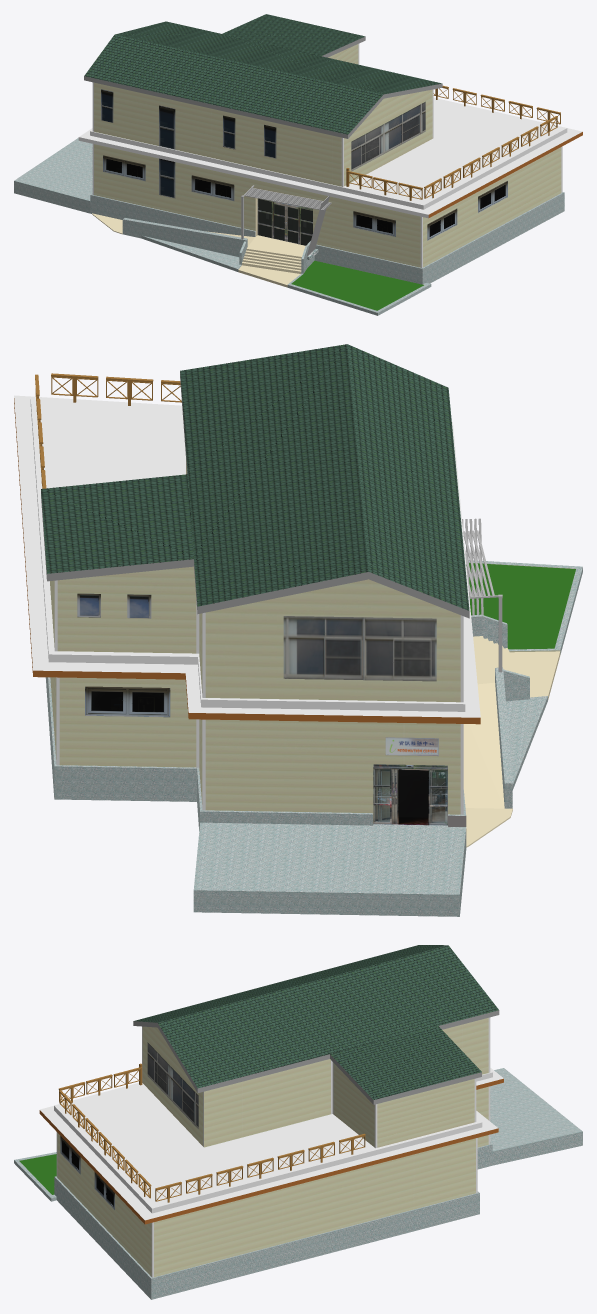
File: 永續處.glb
The picture shows the model from 3 angles, top to bottom: view 1: azimuth 30°, elevation 25°; view 2: azimuth 150°, elevation 25°; view 3: azimuth 270°, elevation 25°; orthographic projection. The views are drawn at different scales.
Parts seen in each view (by area): view 1: _G-Object (Loose Mesh), G-Object.002, C-群組#4.002, C-群組#4.001, C-群組#4.003, C-群組#4.004, C-群組#4.005; view 2: _G-Object (Loose Mesh), C-群組#4, G-Object.002, G-Object.003; view 3: _G-Object (Loose Mesh).
Part boxes in pixels (x1,y1,x2,y2): _G-Object (Loose Mesh): [14, 14, 582, 315]; G-Object.002: [244, 188, 331, 210]; C-群組#4.002: [191, 175, 234, 200]; C-群組#4.001: [103, 155, 145, 181]; C-群組#4.003: [353, 211, 395, 236]; C-群組#4.004: [427, 208, 457, 240]; C-群組#4.005: [478, 181, 507, 212]; _G-Object (Loose Mesh): [14, 344, 582, 916]; C-群組#4: [85, 686, 170, 717]; G-Object.002: [463, 530, 494, 596]; G-Object.003: [462, 518, 483, 615]; _G-Object (Loose Mesh): [14, 945, 582, 1299].
Size of the model in its own units: 27.1 by 10.31 by 28.79.
Materials: 20 (12 with a texture image).
